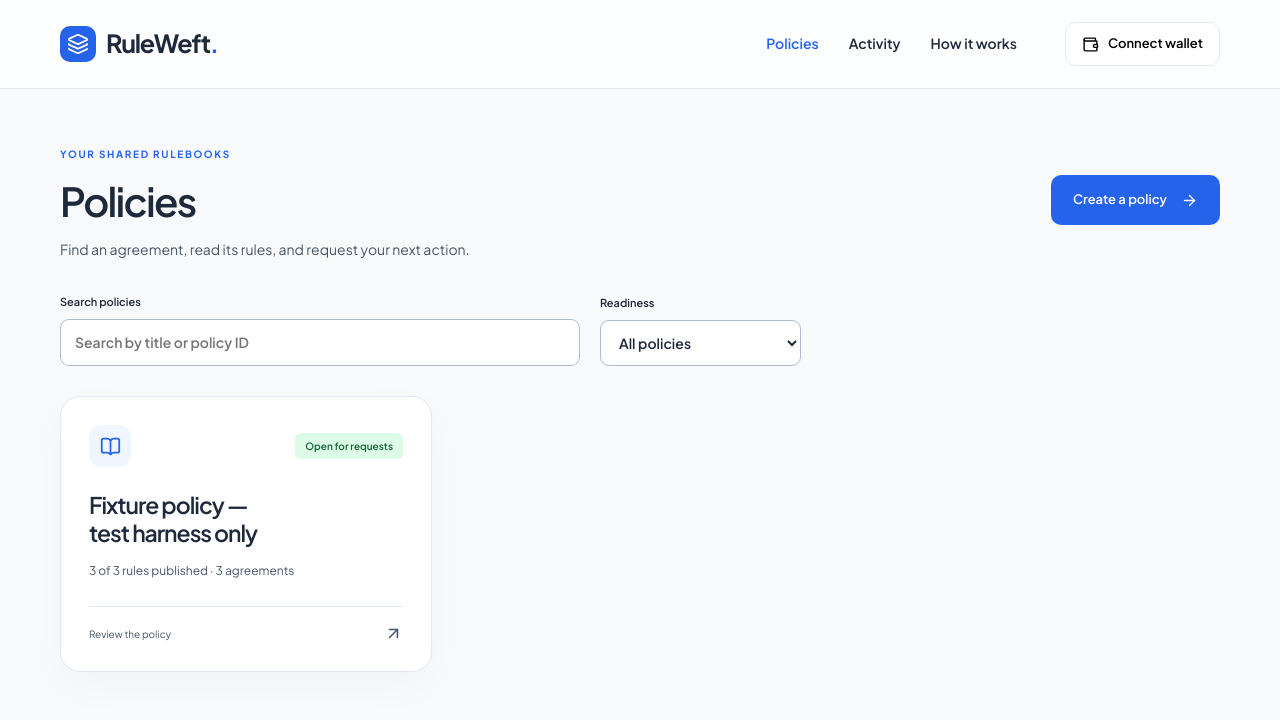
Test: complete named page map › filters canonical policy reads without fabricated results
Expected: the heading "Fixture policy — test harness only" is shown, [89,490,257,547]
In the field labelled "Search policies": point(320, 343) [60,319,580,366], type "no-match"
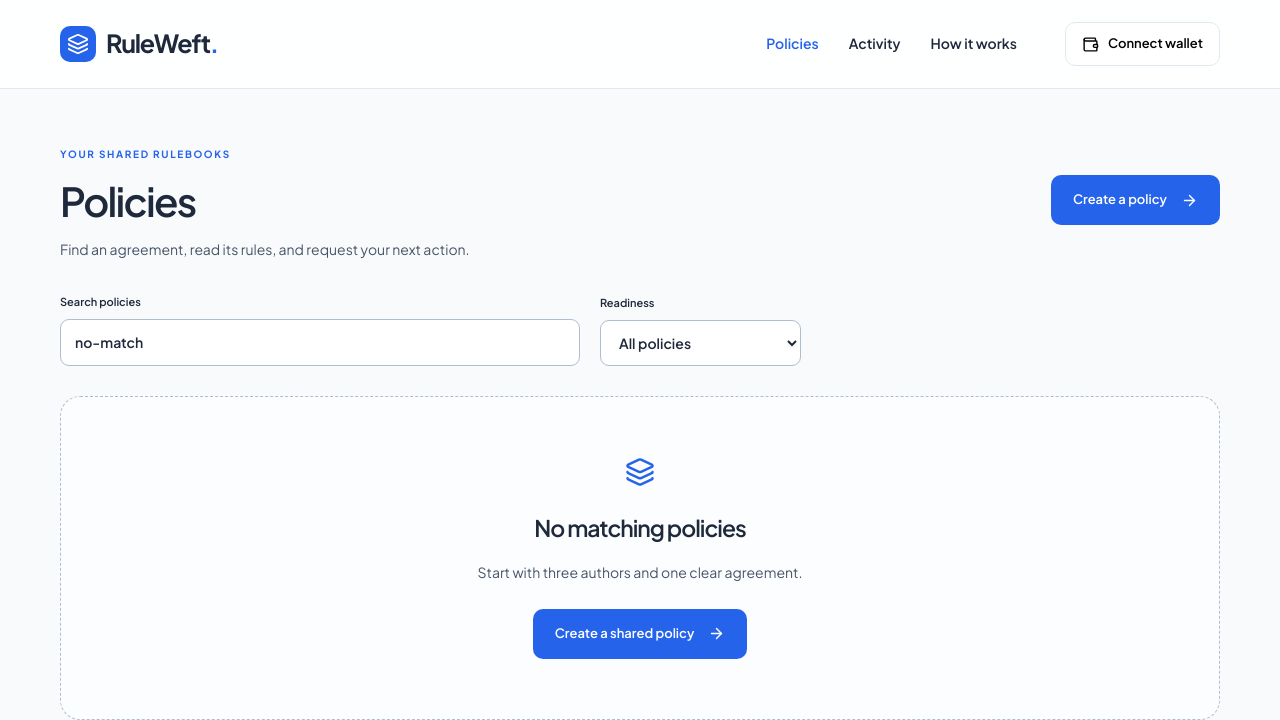
Now the link "Fixture policy — test harness only" is gone
Now the heading "No matching policies" is shown, box [534,513,746,542]
